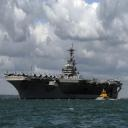Portanaves: (5, 43, 125, 103)
